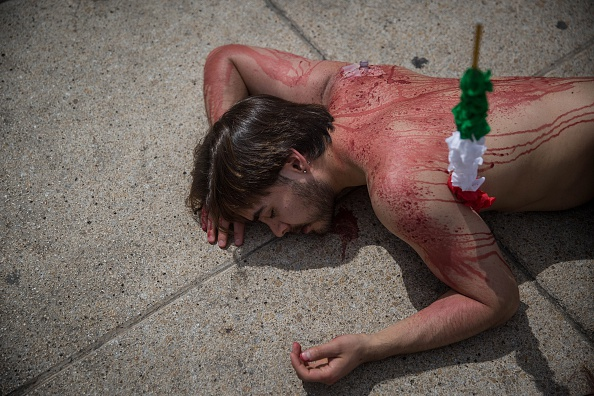deitado: (180, 29, 580, 374)
